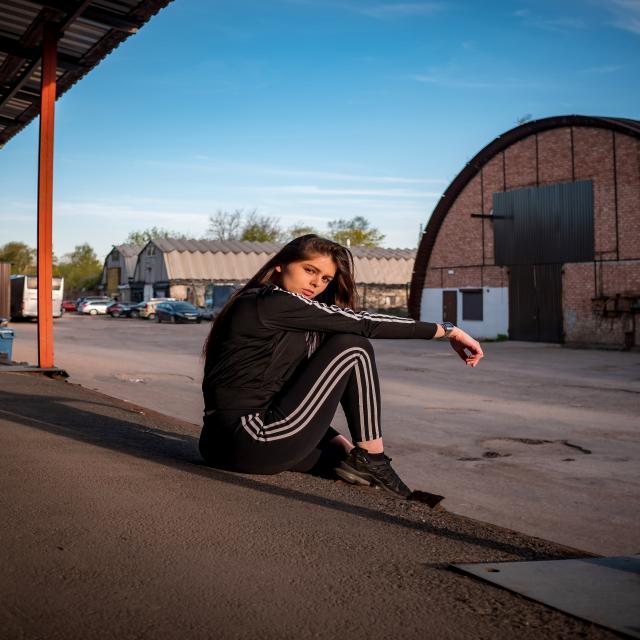adult: (206, 235, 484, 483)
